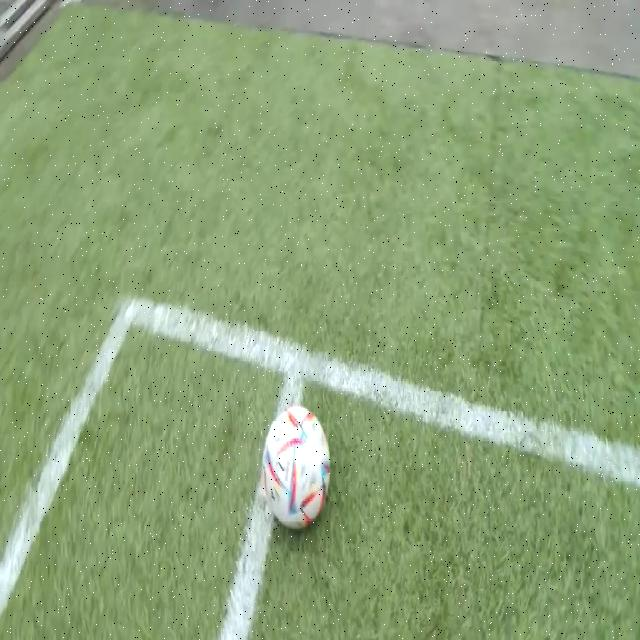ball: (264, 406, 329, 528)
